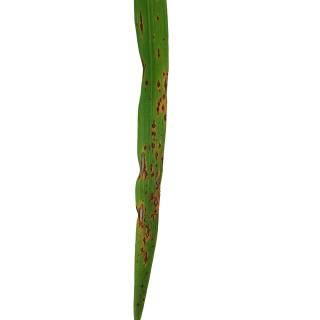Blast: (156, 76, 168, 115), (140, 245, 150, 266), (137, 203, 145, 227), (142, 224, 151, 244), (140, 152, 147, 176), (150, 208, 157, 220), (149, 192, 156, 202), (150, 120, 158, 128), (155, 178, 160, 188), (154, 195, 158, 207), (151, 130, 158, 136), (151, 143, 156, 150)
